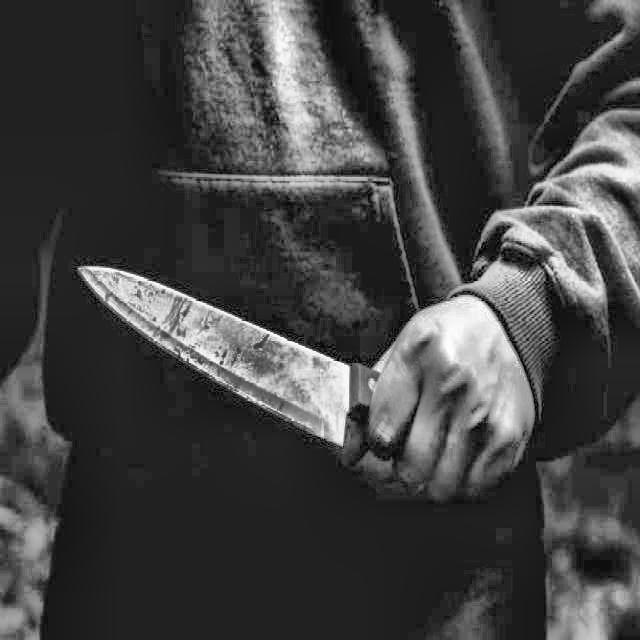pisau: (69, 257, 547, 501)
